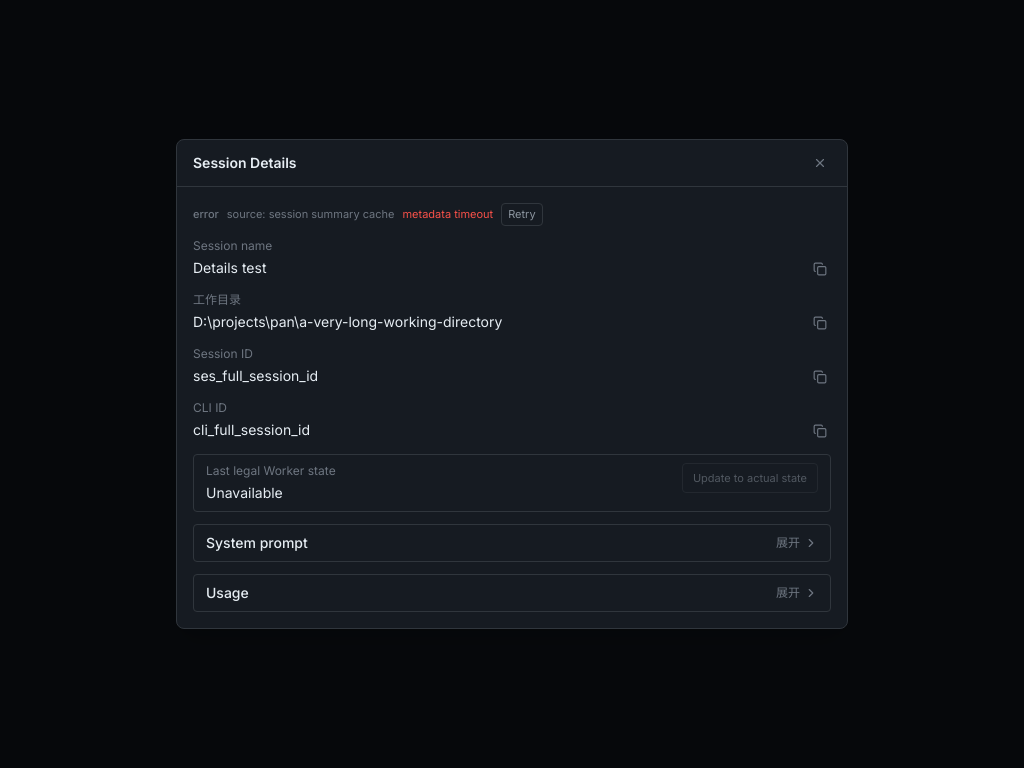
Test: SessionDetailsModal › shows detail freshness and retries without replacing the summary fallback
Check: the text "error" is shown, box [193, 206, 219, 223]
Check: the text "metadata timeout" is shown, box [402, 206, 493, 223]
Click the button "Retry" at (522, 215), box [501, 203, 543, 226]
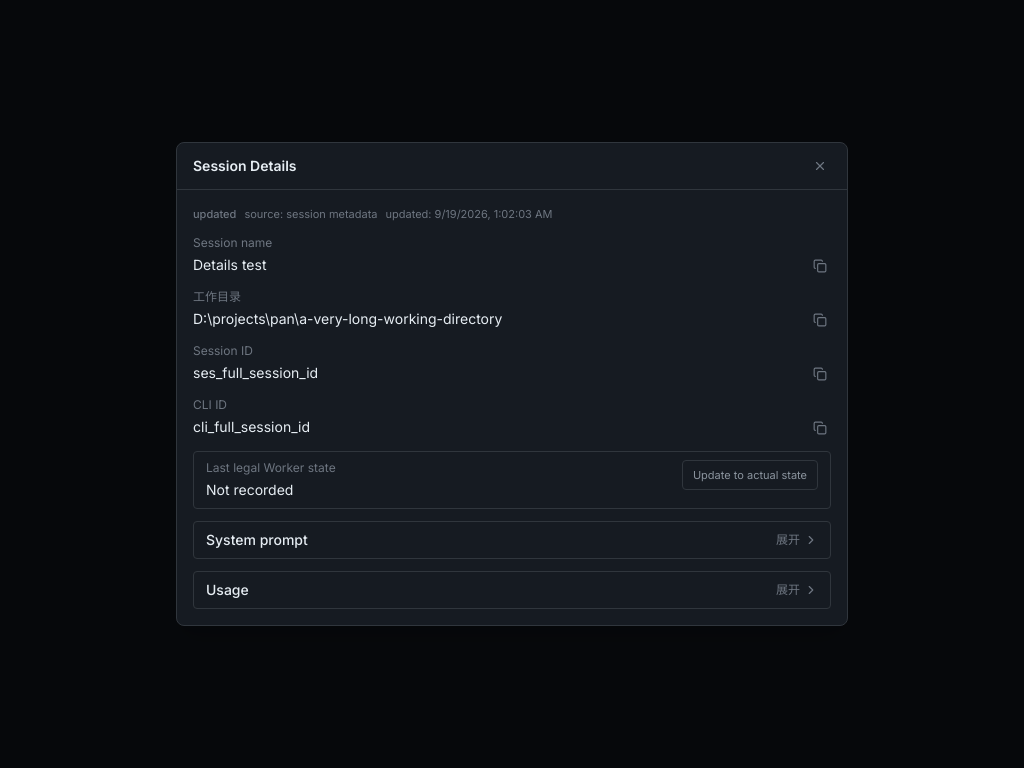
Check: the text "updated" is shown, box [193, 206, 236, 223]
Click the button "System prompt 展开" at (257, 539), box [194, 522, 830, 558]
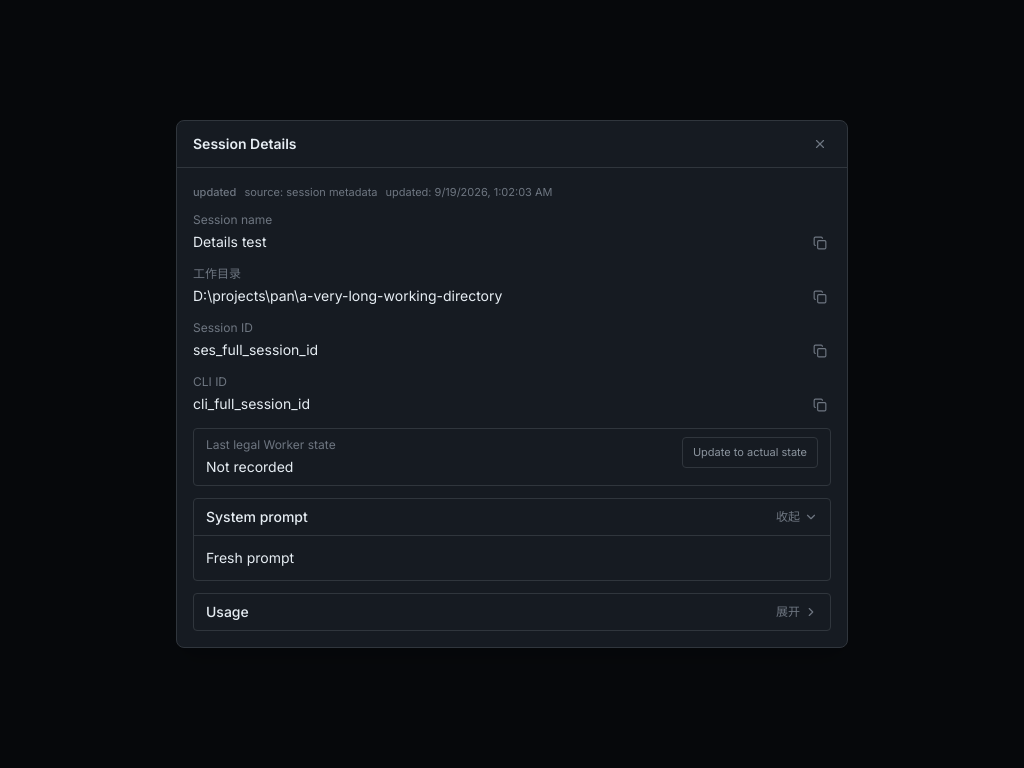
Check: the text "Fresh prompt" is shown, box [206, 549, 294, 566]
